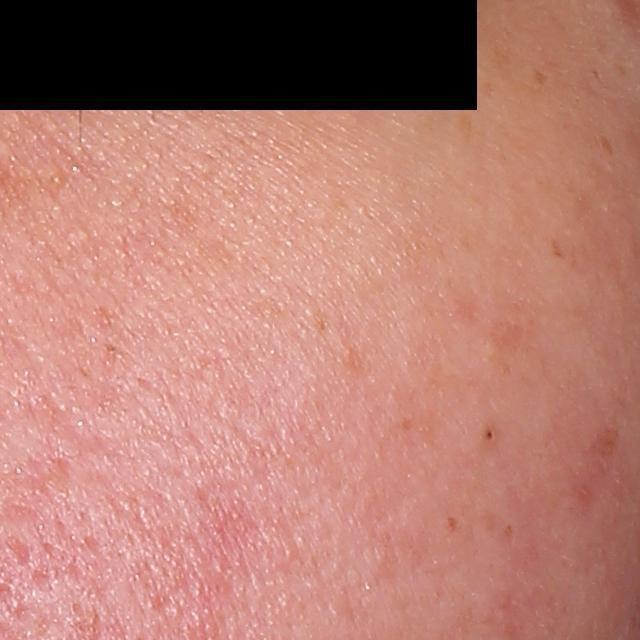comedo: (477, 422, 501, 446)
melasma: (457, 109, 475, 146), (550, 233, 569, 260), (594, 132, 614, 155), (533, 66, 550, 89), (398, 412, 414, 430), (447, 514, 460, 535)
